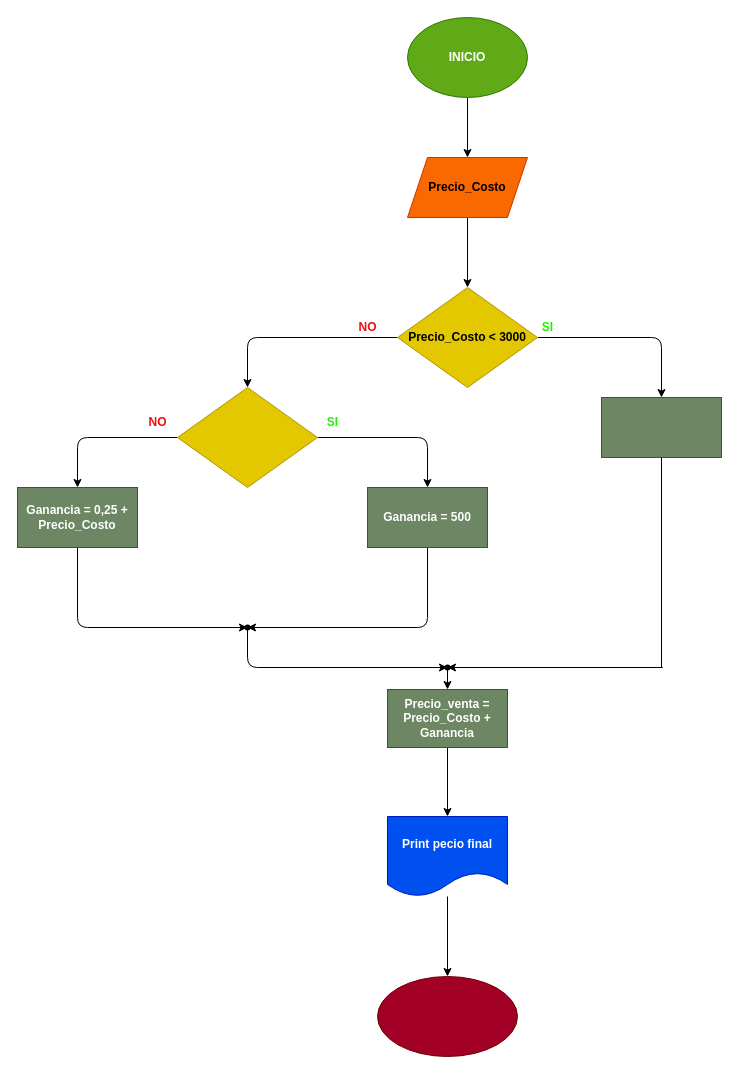
Some shapes in this 739 by 1074 pixel diagram are drawn without their labels. Here are the shapes that lost their labels. From the top down, the centre of each, then its label:
At point (247, 437): "Precio_Costo < 6000".
At point (661, 427): "Ganancia = 0,15 + Precio_Costo".
At point (447, 1016): "FIN".
